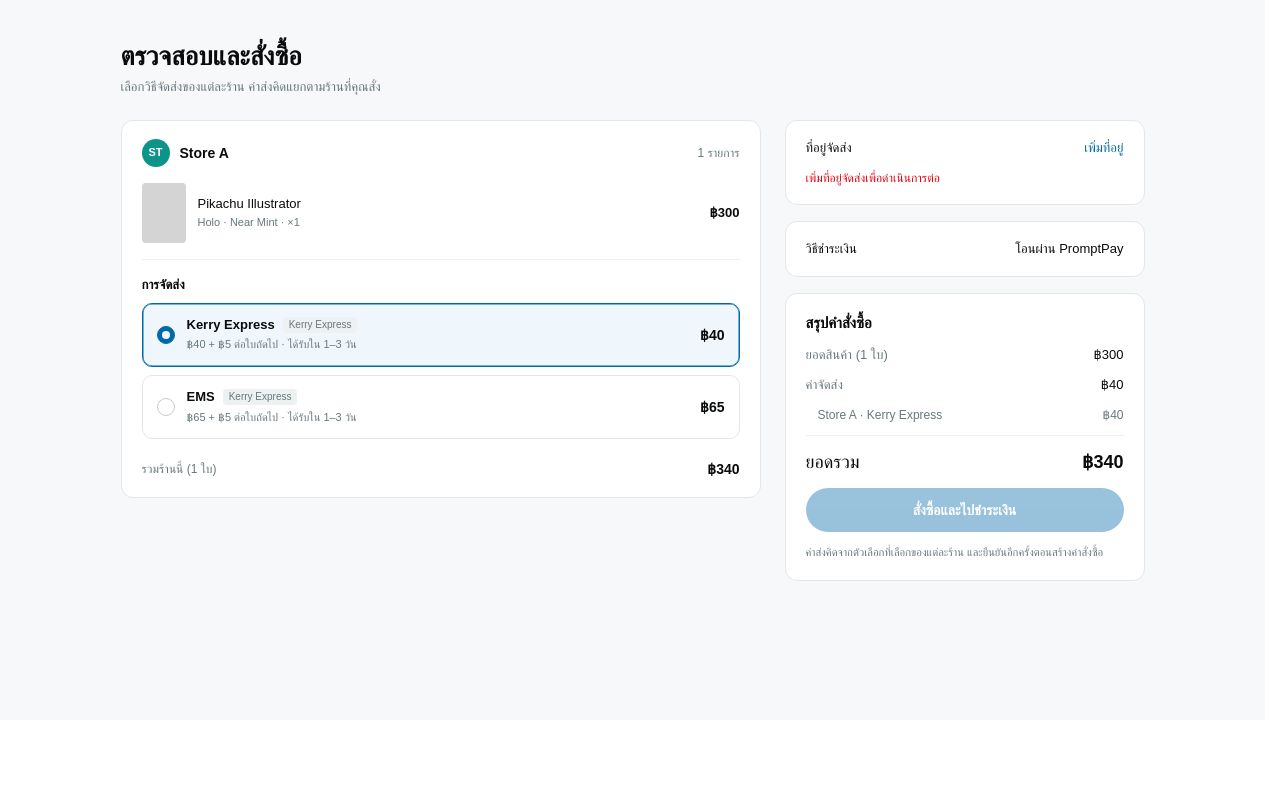
it: CheckoutPage › shows an empty address dialog, disables confirmation, and opens the existing create form
This screenshot has width=1280, height=800.
Check: the button "สั่งซื้อและไปชำระเงิน" is disabled, box [806, 488, 1124, 532]
Click the button "เพิ่มที่อยู่" at (1104,148), box [1084, 139, 1124, 158]
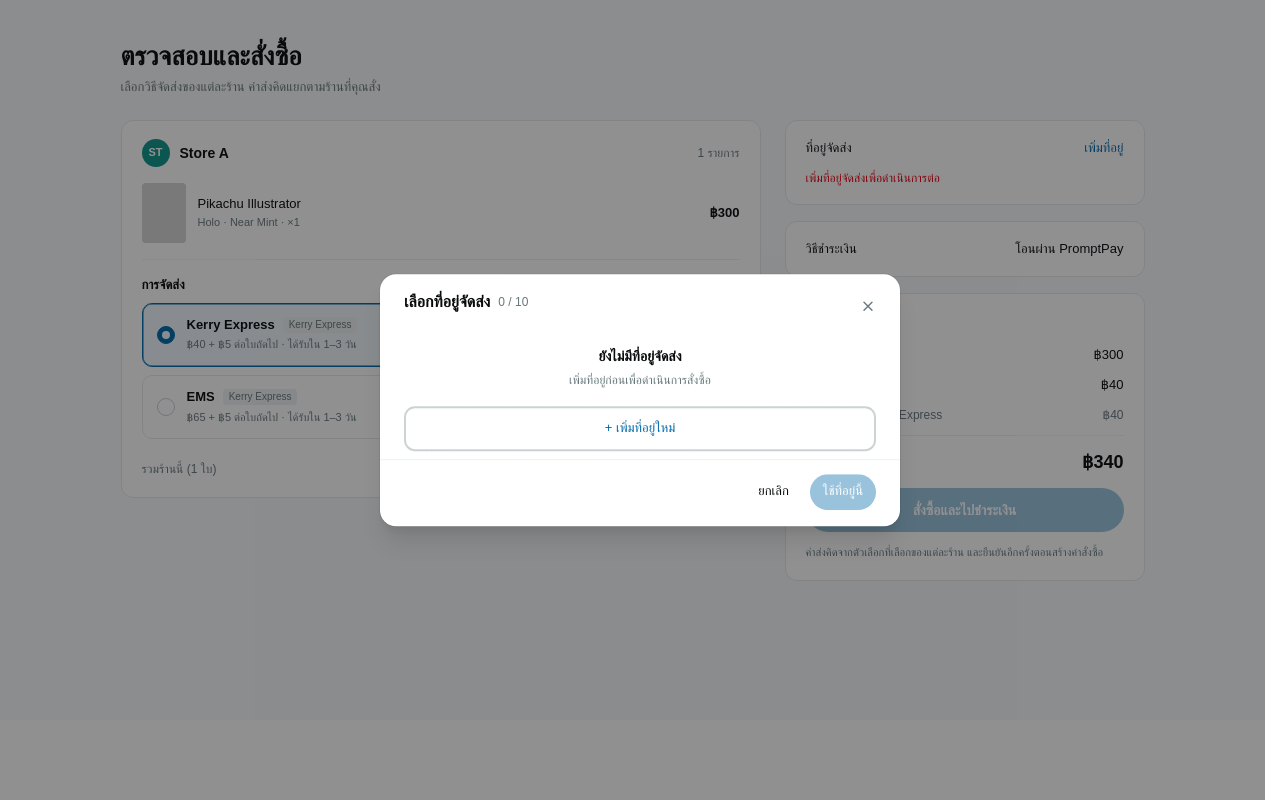
Check: the text "ยังไม่มีที่อยู่จัดส่ง" is shown, box [598, 346, 682, 366]
Check: the button "ใช้ที่อยู่นี้" is disabled, box [810, 474, 876, 510]
Click the button "+ เพิ่มที่อยู่ใหม่" at (640,428), box [404, 406, 876, 451]
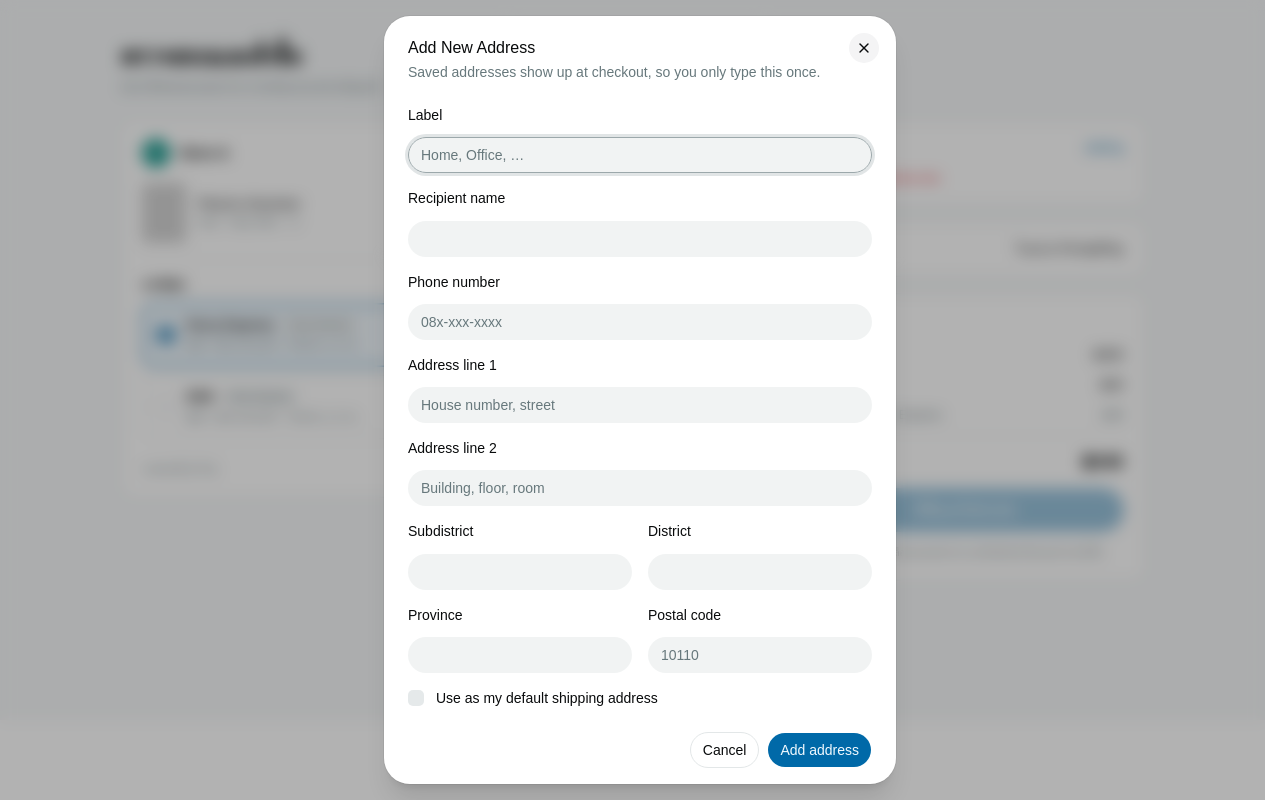
Check: the dialog "Add New Address" is shown, box [384, 16, 896, 784]
